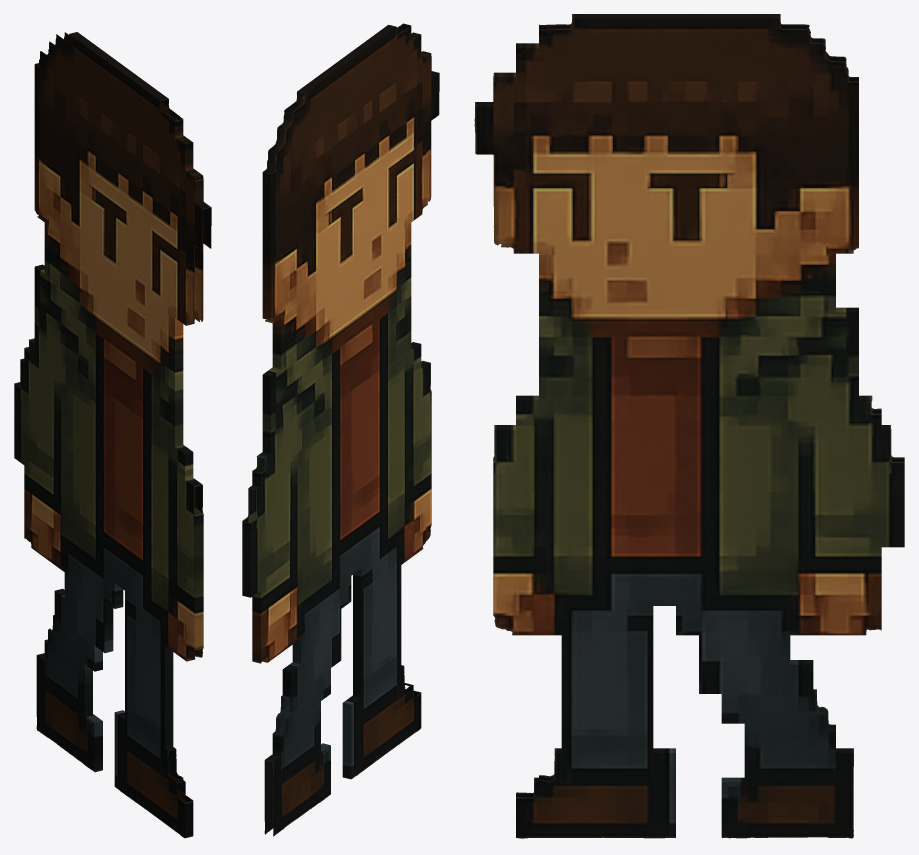
The picture shows the model from 3 angles, left to right: view 1: azimuth 30°, elevation 25°; view 2: azimuth 150°, elevation 25°; view 3: azimuth 270°, elevation 25°; orthographic projection. The views are drawn at different scales.
Parts seen in each view (by area): view 1: ChatGPT Image 12_06_2025, 19_22_11.007; view 2: ChatGPT Image 12_06_2025, 19_22_11.007; view 3: ChatGPT Image 12_06_2025, 19_22_11.007.
Part boxes in pixels (x1,y1,x2,y2): ChatGPT Image 12_06_2025, 19_22_11.007: [14, 32, 211, 838]; ChatGPT Image 12_06_2025, 19_22_11.007: [242, 23, 439, 836]; ChatGPT Image 12_06_2025, 19_22_11.007: [474, 14, 904, 838].
Size of the model in its own units: 1 by 81.97 by 39.23.
1 material, 1 textured.
